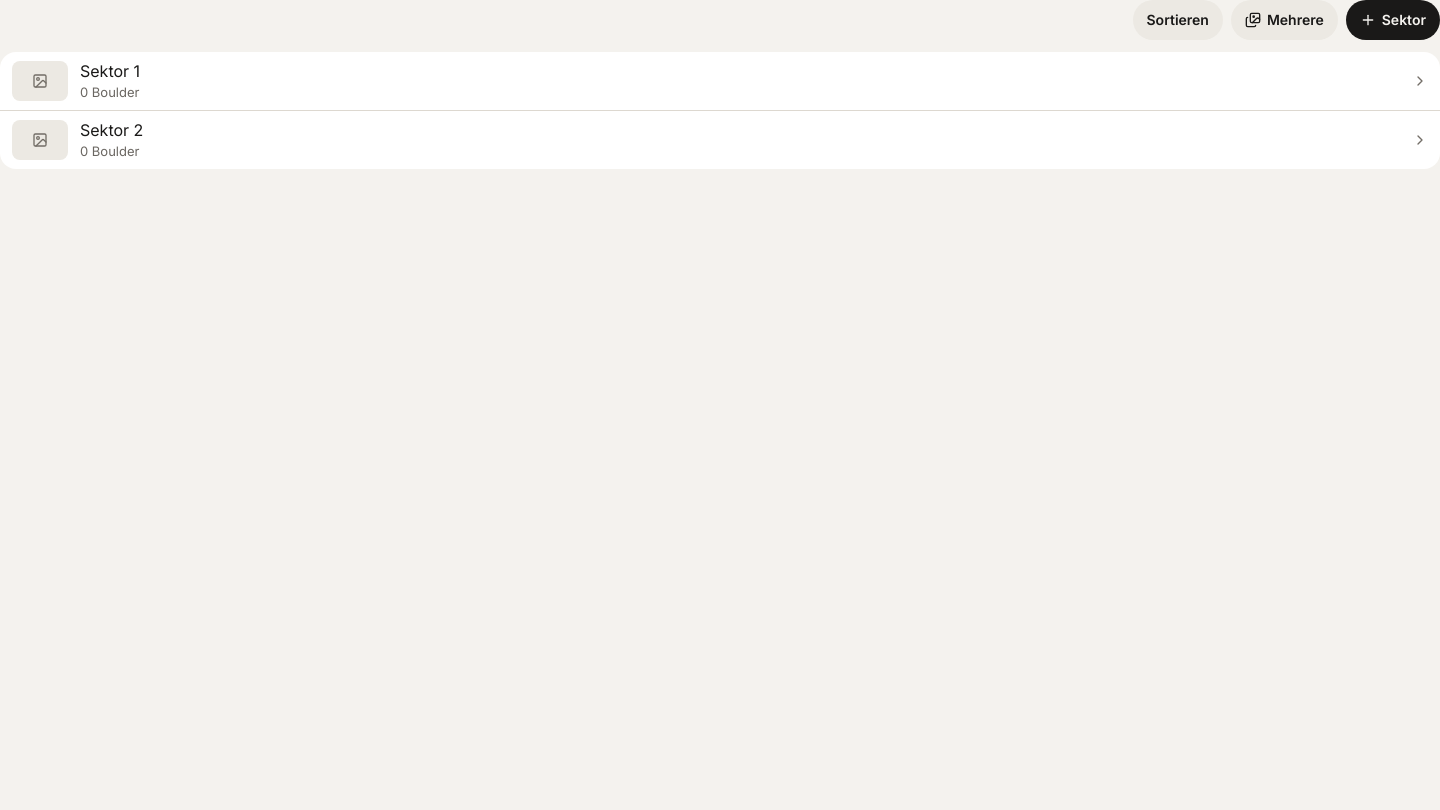
Test: AC-4/5/6 Sektoren › Löschen fragt nach; Abbrechen behält den Sektor
What coordinates should you click on to do the following:
click the button with test id "sector-row-s-2"
I would click on:
 (40, 140)
Its box is [0,111,1439,169].
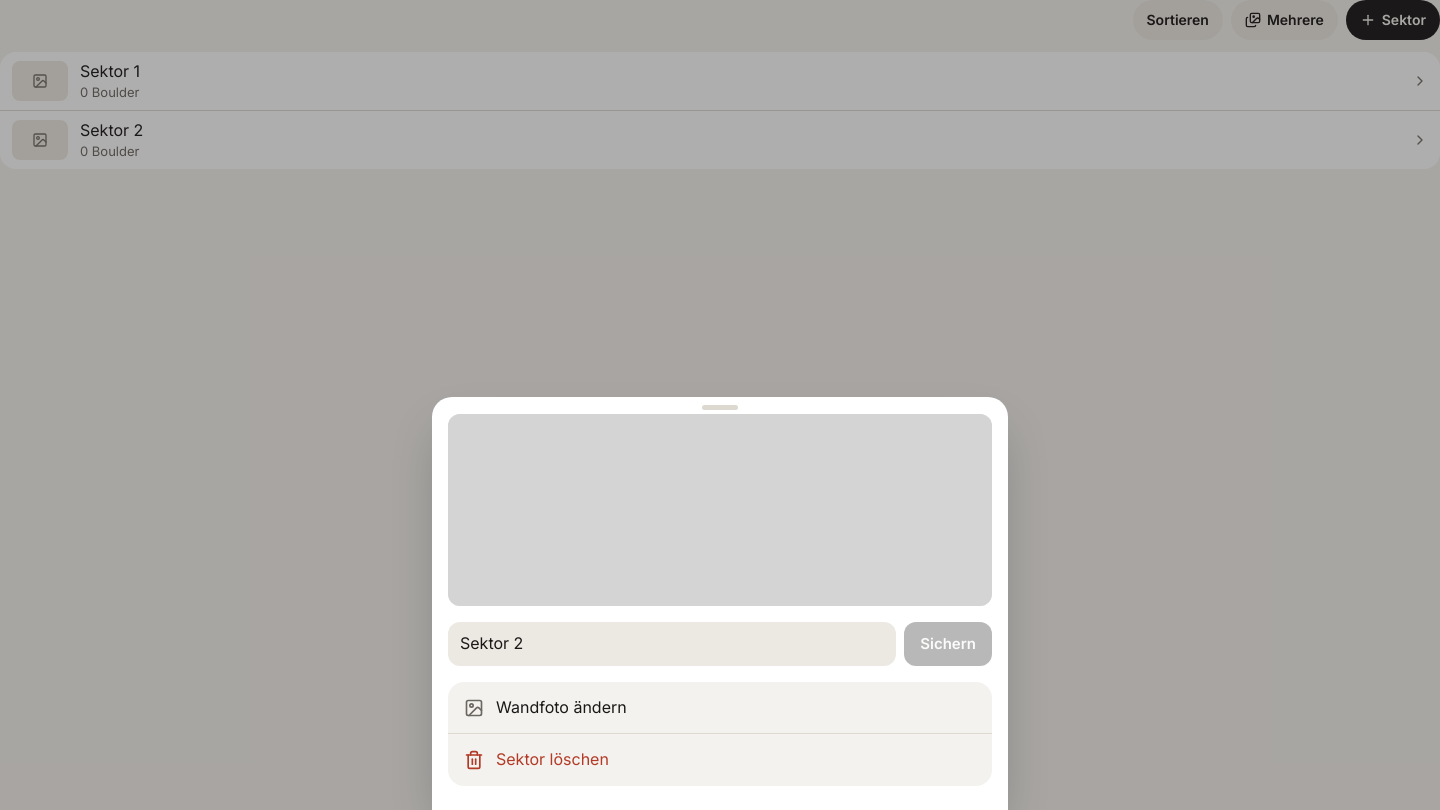
What coordinates should you click on to do the following:
click the button with test id "sector-delete-btn"
I would click on:
 (552, 759)
Its box is [448,734,992,786].
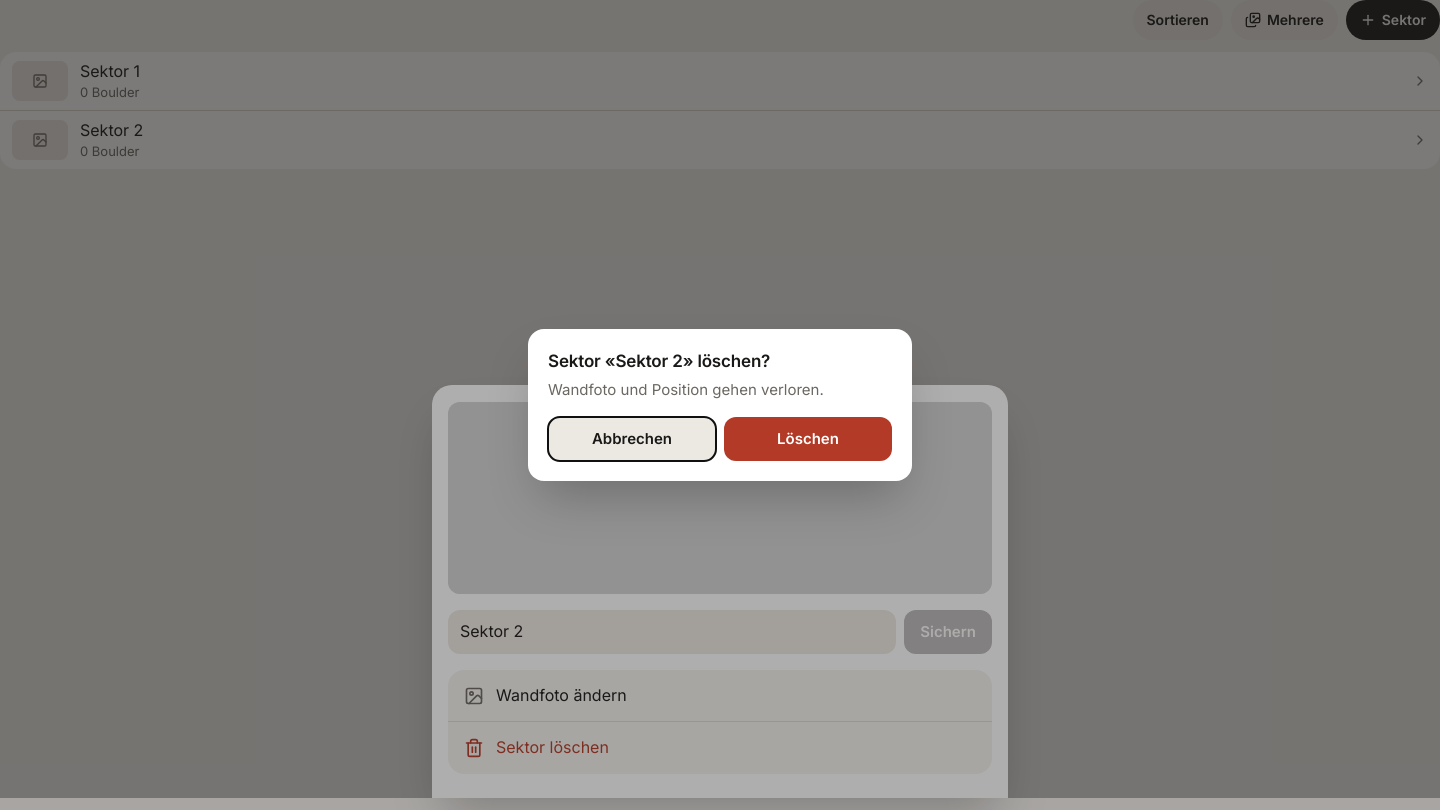
Result: the dialog with test id "confirm-dialog" shows "Sektor 2" at [548,351,770,371]
What coordinates should you click on to do the following:
click the button with test id "confirm-cancel"
I would click on:
 (632, 439)
Its box is [548,417,716,461].
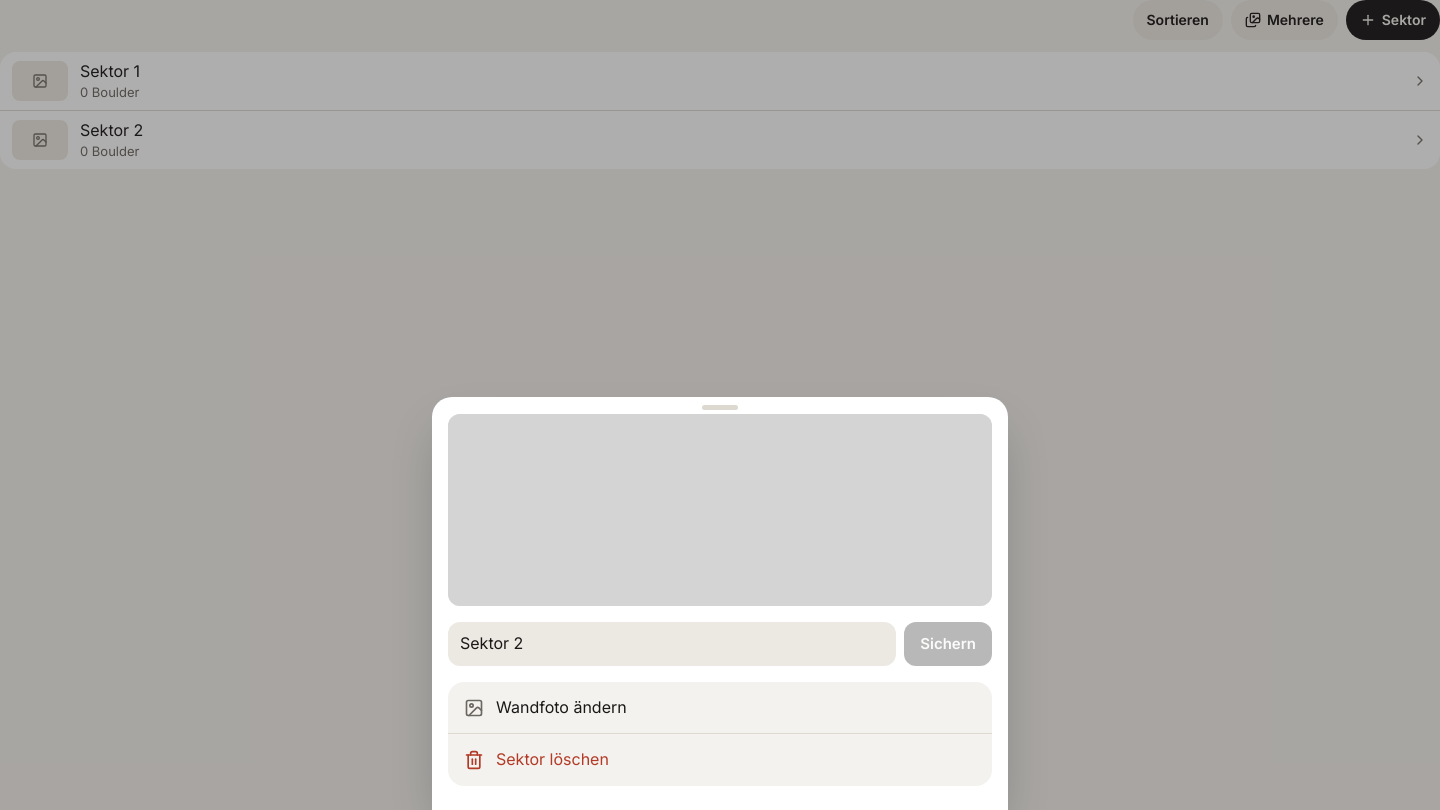
Result: the dialog with test id "confirm-dialog" is gone
